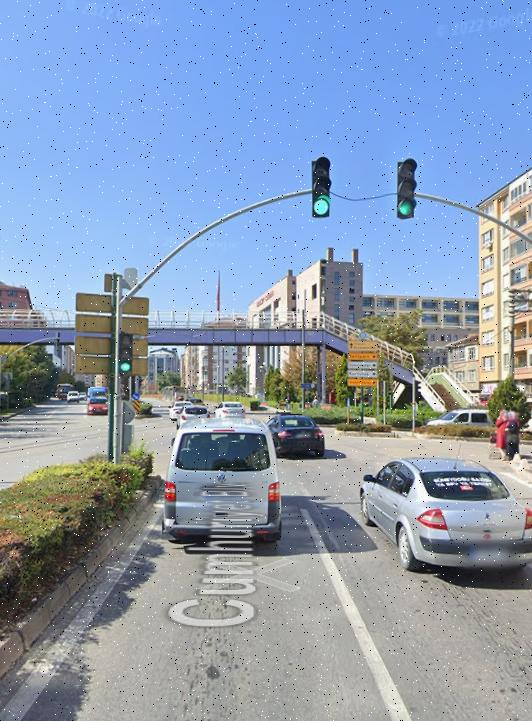greenlight: (312, 158, 334, 217), (399, 161, 415, 220), (118, 330, 135, 376)
